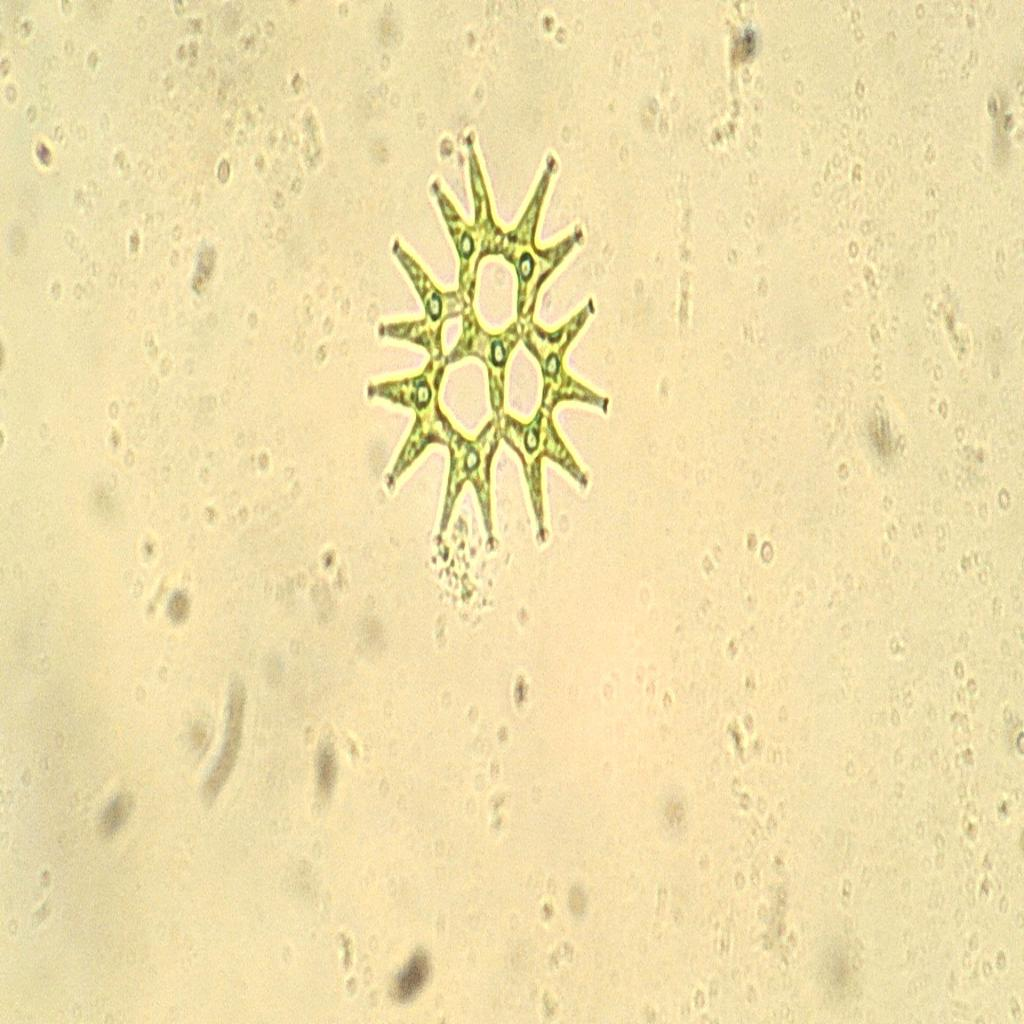Pediastrum_75T: (362, 124, 619, 568)
